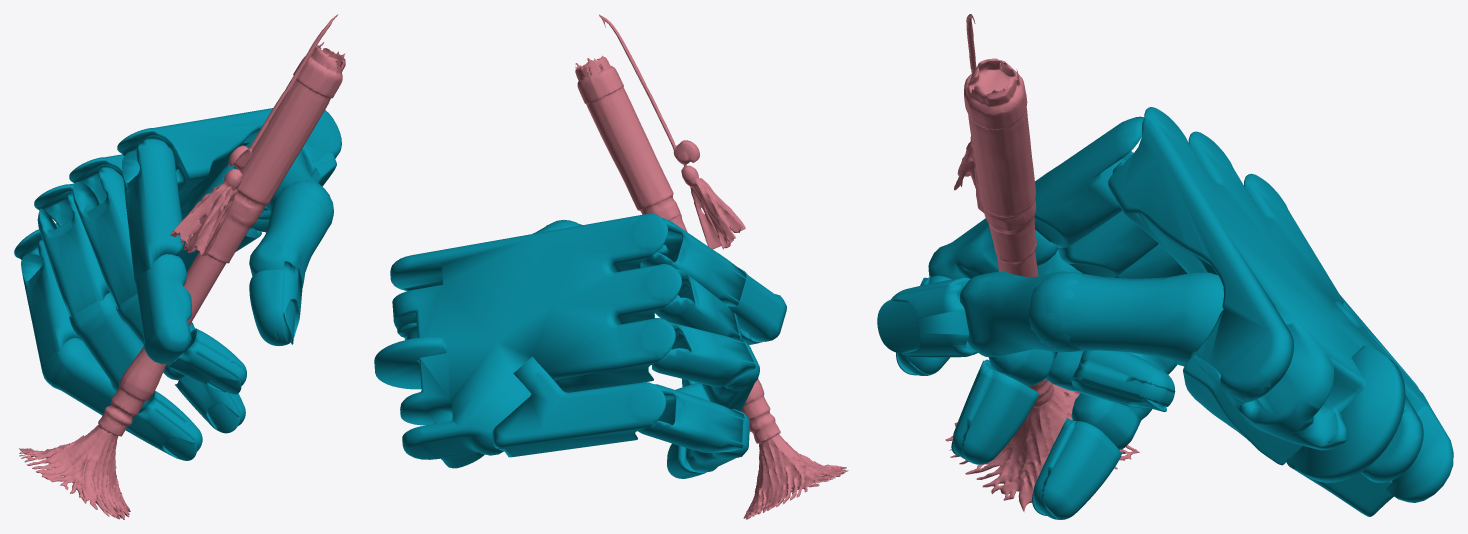
The picture shows the model from 3 angles, left to right: view 1: azimuth 30°, elevation 25°; view 2: azimuth 150°, elevation 25°; view 3: azimuth 270°, elevation 25°; orthographic projection. The views are drawn at different scales.
Visible parts, largest first — view 1: world; view 2: world; view 3: world.
Part boxes in pixels (x1,y1,x2,y2): world: (14, 14, 345, 519); world: (374, 14, 848, 519); world: (877, 14, 1453, 519).
Size of the model in its own units: 0.164 by 0.186 by 0.1568.
